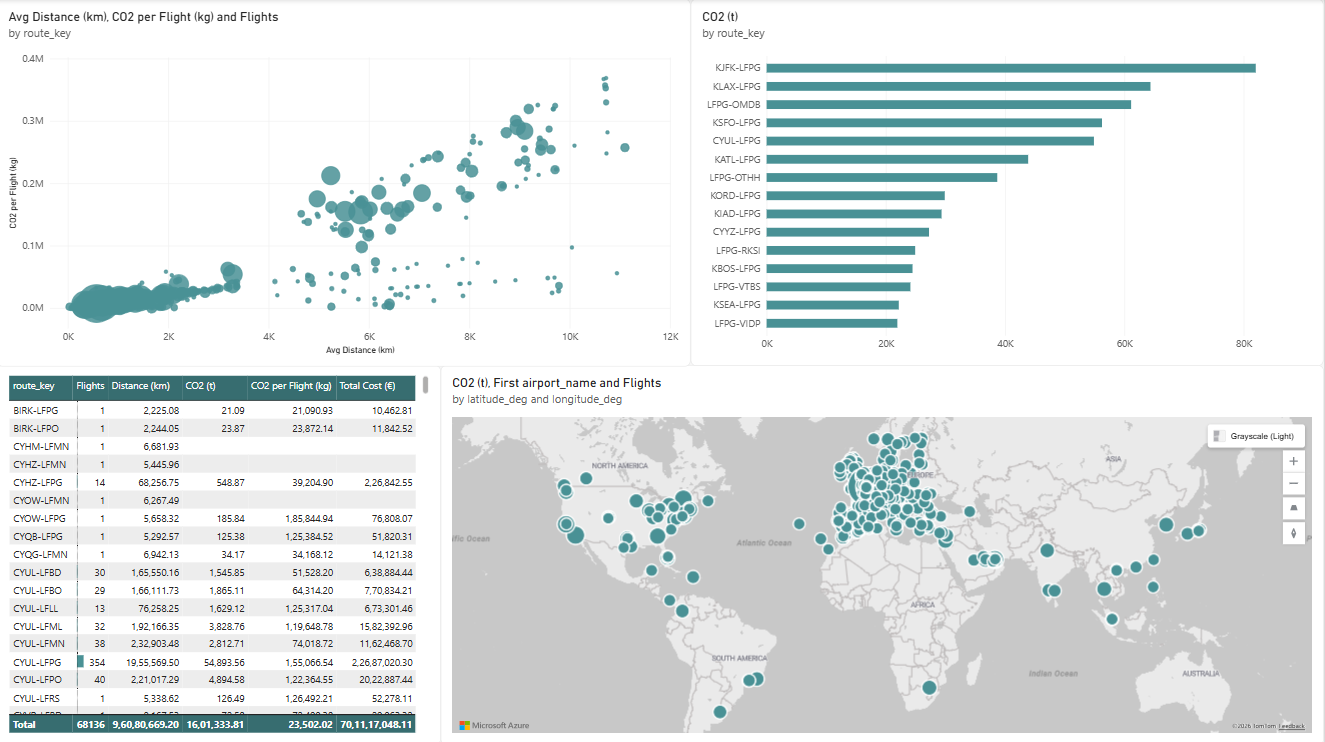

The dashboard page shown, as its layout file describes it:
{"tool":"powerbi","page":{"name":"Routes & Airports","canvas":[1920,1080],"ordinal":1},"visuals":[{"type":"azureMap","fields":{"Size":["_Measures.CO2 (t)"],"X":["dim_airport.longitude_deg"],"Y":["dim_airport.latitude_deg"]},"box":[642.2,531,1278.2,549.6],"z":0},{"type":"clusteredBarChart","fields":{"Category":["v_flight_kpi.route_key"],"Y":["_Measures.CO2 (t)"]},"box":[1004.5,0,916,531],"z":1000},{"type":"tableEx","fields":{"Values":["v_flight_kpi.route_key","_Measures.Flights","_Measures.Distance (km)","_Measures.CO2 (t)","_Measures.CO2 per Flight (kg)","_Measures.Total Cost (€)"]},"box":[0,531,642.2,549.6],"z":2000},{"type":"scatterChart","fields":{"Category":["v_flight_kpi.route_key"],"Size":["_Measures.Flights"],"X":["_Measures.Avg Distance (km)"],"Y":["_Measures.CO2 per Flight (kg)"]},"box":[0,0,1003.6,531.9],"z":3000}]}

Visuals, with their boxes in screenshot pixels (x1, y1, x2, y2), scaled from the page's 1920x1080 canvas onto the 1325x742 screenshot:
azureMap - _Measures.CO2 (t) x dim_airport.longitude_deg: (left=443, top=365, right=1324, bottom=741)
clusteredBarChart - v_flight_kpi.route_key x _Measures.CO2 (t): (left=693, top=0, right=1324, bottom=365)
tableEx - v_flight_kpi.route_key x _Measures.Flights: (left=0, top=365, right=443, bottom=741)
scatterChart - v_flight_kpi.route_key x _Measures.Flights: (left=0, top=0, right=693, bottom=365)
